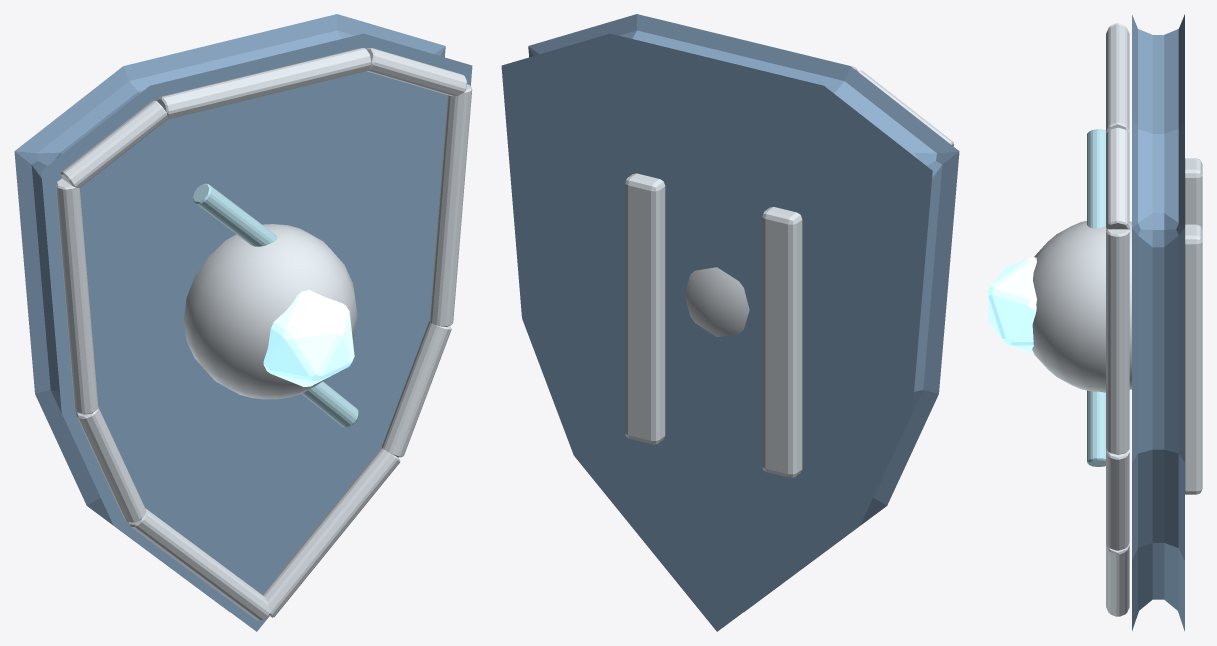
Rendered from warrior-shield-05-thunderbastion.glb.
The picture shows the model from 3 angles, left to right: view 1: azimuth 30°, elevation 25°; view 2: azimuth 150°, elevation 25°; view 3: azimuth 270°, elevation 25°; orthographic projection.
Visible parts, largest first — view 1: warrior-shield-05-thunderbastion_ShieldBack, warrior-shield-05-thunderbastion_BossBase, warrior-shield-05-thunderbastion_BossGem, warrior-shield-05-thunderbastion_RaisedRim_4, warrior-shield-05-thunderbastion_RaisedRim_9, warrior-shield-05-thunderbastion_RaisedRim_2, warrior-shield-05-thunderbastion_RaisedRim_6, warrior-shield-05-thunderbastion_RaisedRim_7, warrior-shield-05-thunderbastion_RaisedRim_5, warrior-shield-05-thunderbastion_RaisedRim_1, warrior-shield-05-thunderbastion_RaisedRim_8, warrior-shield-05-thunderbastion_RaisedRim_3 (+2 smaller); view 2: warrior-shield-05-thunderbastion_ShieldBack, warrior-shield-05-thunderbastion_BackStrap_1, warrior-shield-05-thunderbastion_BackStrap_-1, warrior-shield-05-thunderbastion_BossBase; view 3: warrior-shield-05-thunderbastion_ShieldBack, warrior-shield-05-thunderbastion_BossBase, warrior-shield-05-thunderbastion_RaisedRim_4, warrior-shield-05-thunderbastion_BackStrap_1, warrior-shield-05-thunderbastion_BossGem, warrior-shield-05-thunderbastion_RaisedRim_2, warrior-shield-05-thunderbastion_RaisedRim_3, warrior-shield-05-thunderbastion_RaisedRim_5, warrior-shield-05-thunderbastion_Lightning_1, warrior-shield-05-thunderbastion_RaisedRim_6, warrior-shield-05-thunderbastion_Lightning_3, warrior-shield-05-thunderbastion_BackStrap_-1.
Boxes of the visible parts, x1,y1,x2,y2 form: warrior-shield-05-thunderbastion_ShieldBack: (14,14,472,631); warrior-shield-05-thunderbastion_BossBase: (184,224,357,399); warrior-shield-05-thunderbastion_BossGem: (263,290,354,386); warrior-shield-05-thunderbastion_RaisedRim_4: (429,84,472,326); warrior-shield-05-thunderbastion_RaisedRim_9: (55,178,98,414); warrior-shield-05-thunderbastion_RaisedRim_2: (157,48,371,119); warrior-shield-05-thunderbastion_RaisedRim_6: (262,447,400,617); warrior-shield-05-thunderbastion_RaisedRim_7: (128,508,269,620); warrior-shield-05-thunderbastion_RaisedRim_5: (382,321,451,457); warrior-shield-05-thunderbastion_RaisedRim_1: (60,100,167,187); warrior-shield-05-thunderbastion_RaisedRim_8: (76,407,146,522); warrior-shield-05-thunderbastion_RaisedRim_3: (366,48,467,96); warrior-shield-05-thunderbastion_ShieldBack: (501,14,959,631); warrior-shield-05-thunderbastion_BackStrap_1: (625,173,665,444); warrior-shield-05-thunderbastion_BackStrap_-1: (762,207,802,477); warrior-shield-05-thunderbastion_BossBase: (684,267,749,337); warrior-shield-05-thunderbastion_ShieldBack: (1132,14,1184,631); warrior-shield-05-thunderbastion_BossBase: (1032,221,1131,392); warrior-shield-05-thunderbastion_RaisedRim_4: (1106,229,1129,454); warrior-shield-05-thunderbastion_BackStrap_1: (1185,224,1202,494); warrior-shield-05-thunderbastion_BossGem: (988,257,1036,353); warrior-shield-05-thunderbastion_RaisedRim_2: (1106,25,1129,133); warrior-shield-05-thunderbastion_RaisedRim_3: (1106,127,1129,229); warrior-shield-05-thunderbastion_RaisedRim_5: (1106,449,1129,550); warrior-shield-05-thunderbastion_Lightning_1: (1087,129,1105,228); warrior-shield-05-thunderbastion_RaisedRim_6: (1106,543,1129,616); warrior-shield-05-thunderbastion_Lightning_3: (1087,390,1106,466); warrior-shield-05-thunderbastion_BackStrap_-1: (1185,158,1202,229).
Bounding box in the file's own units: 1.07 × 1.36 × 0.4652.
